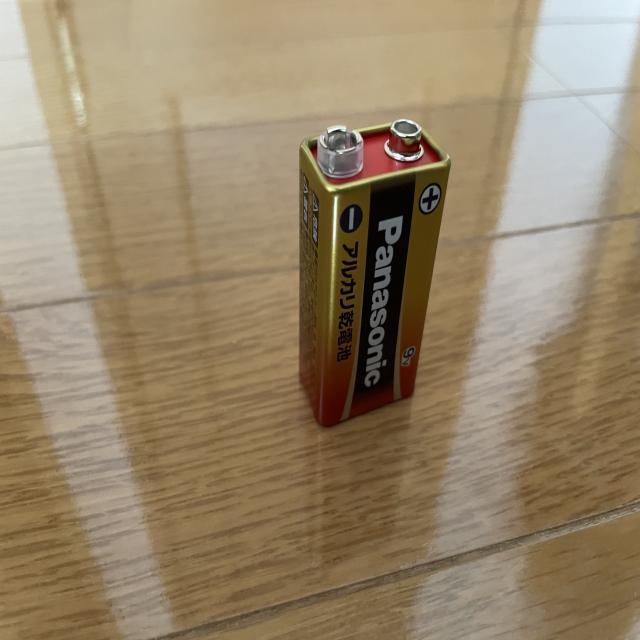9V: (299, 117, 453, 425)
